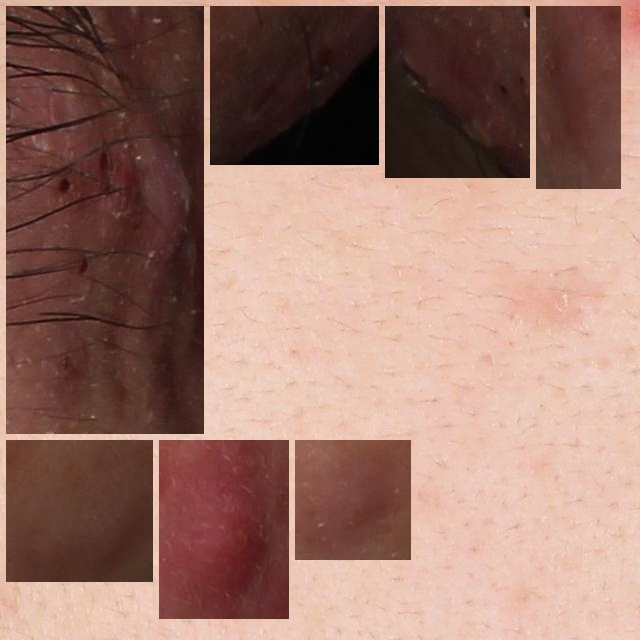nodule: (14, 14, 196, 426), (218, 14, 371, 157), (393, 14, 522, 170), (167, 448, 281, 611), (14, 448, 145, 574), (544, 14, 613, 181), (303, 448, 403, 552)
